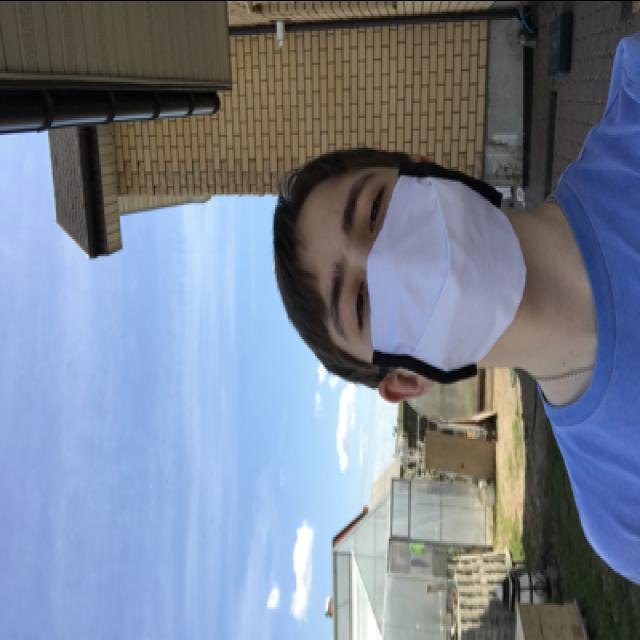mask: (324, 159, 526, 383)
